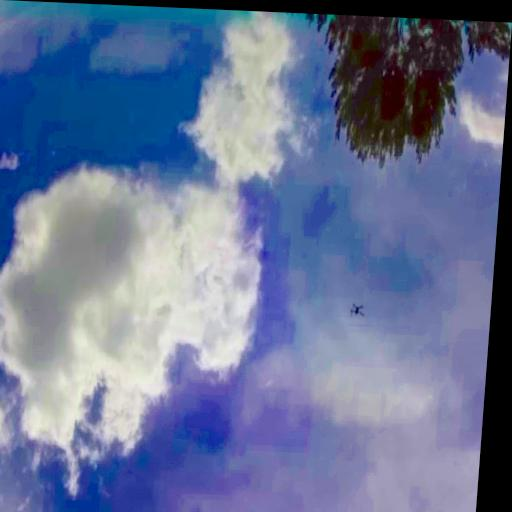drones: (347, 294, 367, 321)
